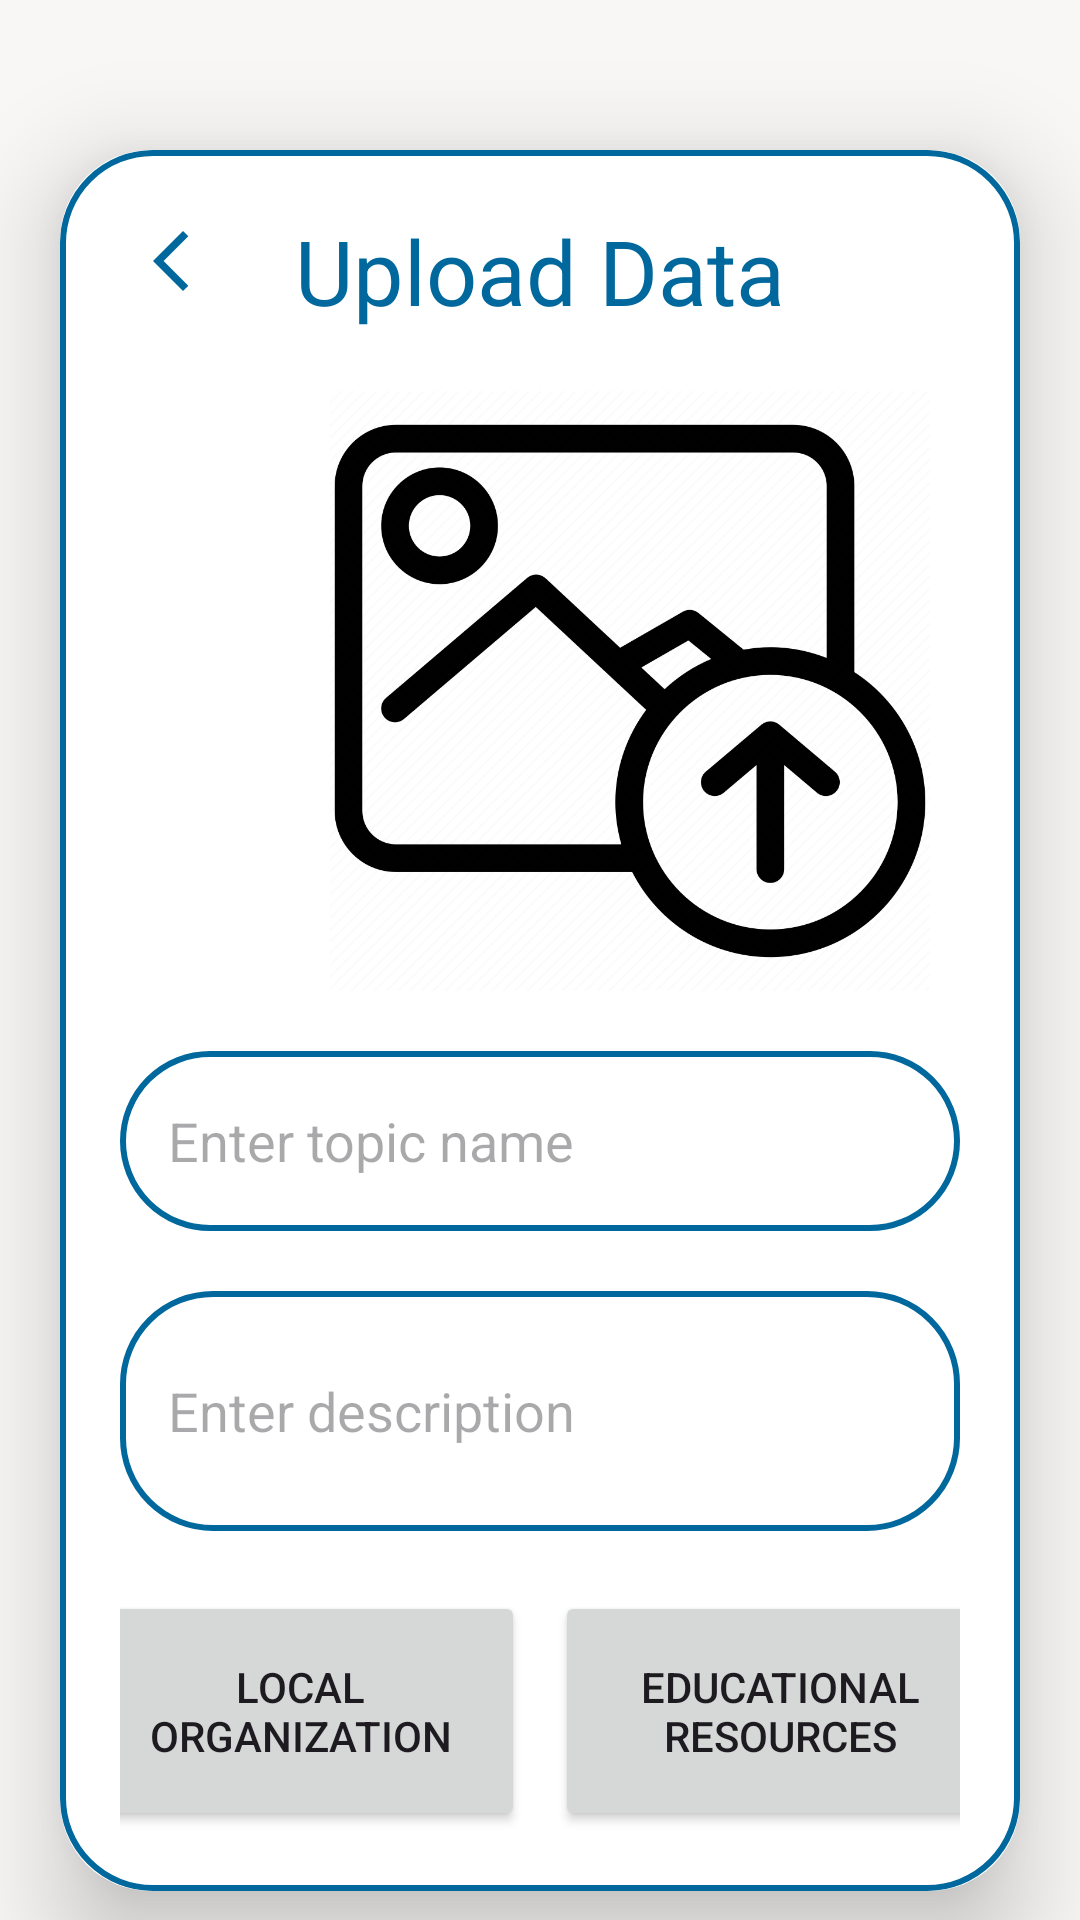

Named icons in this screenshot (1080×1920) and their bounding boxes, [x1, y1, x2, y2]:
back: [153, 231, 188, 291]
